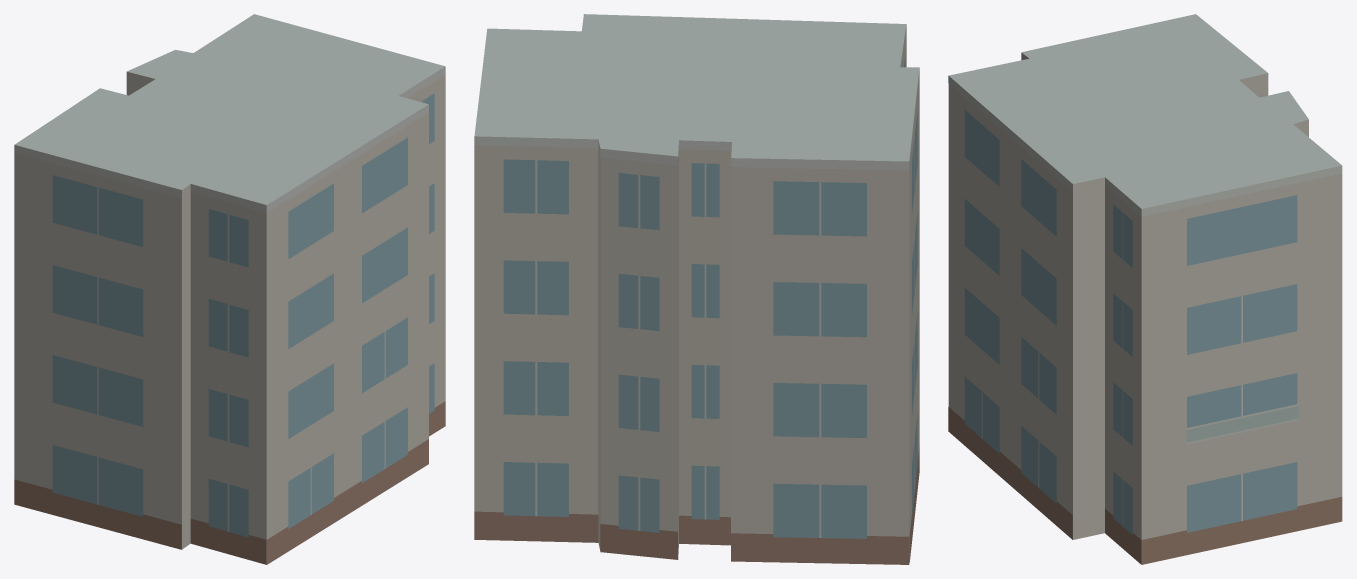
File: survey-upis-33031340.glb
The picture shows the model from 3 angles, left to right: view 1: azimuth 30°, elevation 25°; view 2: azimuth 150°, elevation 25°; view 3: azimuth 270°, elevation 25°; orthographic projection. The views are drawn at different scales.
Parts seen in each view (by area): view 1: survey-upis-33031340.tmp; view 2: survey-upis-33031340.tmp; view 3: survey-upis-33031340.tmp.
Boxes of the visible parts, x1,y1,x2,y2 form: survey-upis-33031340.tmp: (14, 14, 445, 564); survey-upis-33031340.tmp: (474, 14, 919, 564); survey-upis-33031340.tmp: (948, 14, 1342, 564).
Size of the model in its own units: 12.93 by 11 by 11.04.
